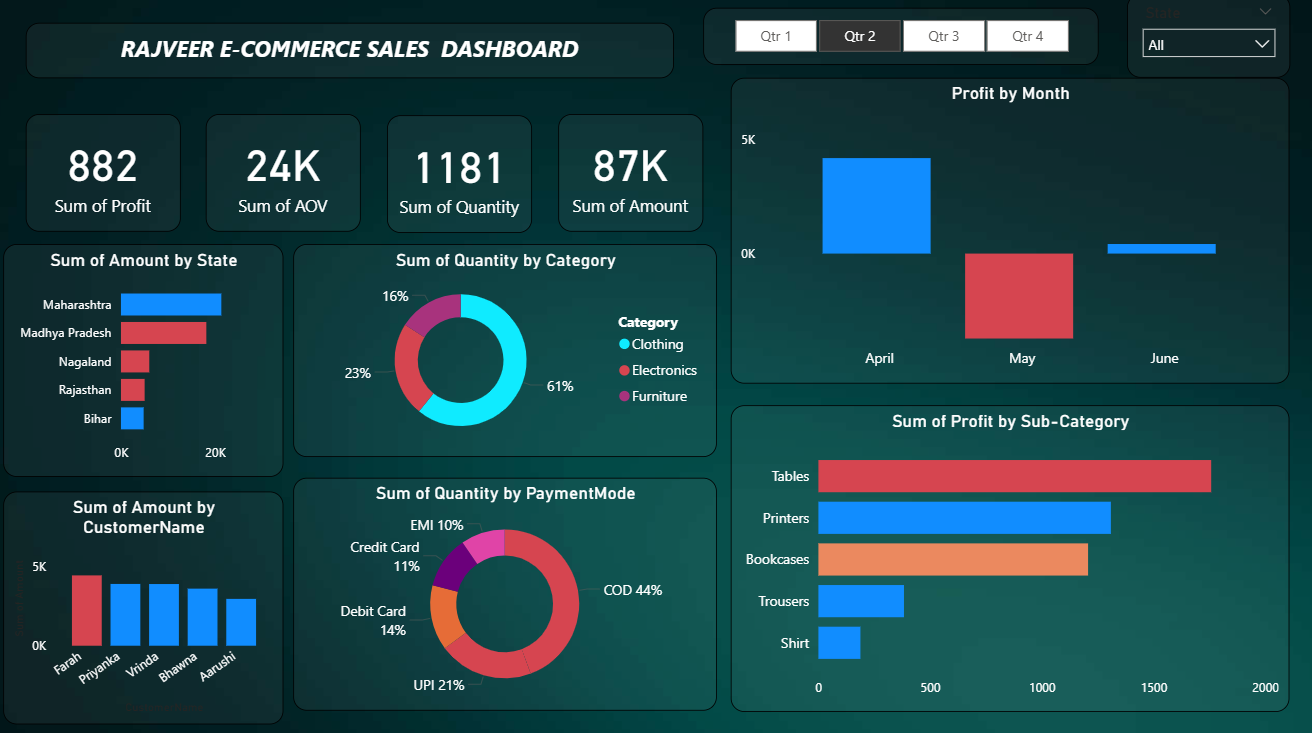

The page's visual inventory and layout, read from the dashboard file:
{"tool":"powerbi","page":{"name":"Page 1","canvas":[1280,720],"ordinal":0},"visuals":[{"type":"columnChart","title":" Profit by Month","fields":{"Y":["Sum(Details.Profit)"],"Category":["Orders.Order Date.Variation.Date Hierarchy.Month"]},"box":[713.6,81,539.3,295],"z":0},{"type":"barChart","fields":{"Category":["Details.Sub-Category"],"Y":["Sum(Details.Profit)"]},"box":[713.6,396.6,539.3,296.4],"z":1000},{"type":"donutChart","fields":{"Category":["Details.Category"],"Y":["Sum(Details.Quantity)"]},"box":[290.9,241.5,408.9,205.8],"z":2000},{"type":"donutChart","fields":{"Category":["Details.PaymentMode"],"Y":["Sum(Details.Quantity)"]},"box":[290.9,466.6,408.9,225],"z":3000},{"type":"card","fields":{"Values":["Sum(Details.Amount)"]},"box":[546.1,115.3,140,113.9],"z":4000},{"type":"card","fields":{"Values":["Sum(Details.Quantity)"]},"box":[381.5,116.6,140,113.9],"z":5000},{"type":"card","fields":{"Values":["Sum(Details.AOV)"]},"box":[205.8,115.3,149.6,113.9],"z":6000},{"type":"card","fields":{"Values":["Sum(Details.Profit)"]},"box":[32.9,115.3,149.6,113.9],"z":7000},{"type":"barChart","fields":{"Category":["Orders.State"],"Y":["Sum(Details.Amount)"]},"box":[11,241.5,270.3,225],"z":8000},{"type":"columnChart","fields":{"Category":["Orders.CustomerName"],"Y":["Sum(Details.Amount)"]},"box":[11,480.3,270.3,225],"z":9000},{"type":"textbox","box":[32.9,27.4,625.7,53.5],"z":10000},{"type":"slicer","fields":{"Values":["Orders.Order Date.Variation.Date Hierarchy.Quarter"]},"box":[686.1,13.7,381.5,54.9],"z":11000},{"type":"slicer","fields":{"Values":["Orders.State"]},"box":[1095,0,157.8,81],"z":12000}]}

Visuals, with their boxes in screenshot pixels (x1, y1, x2, y2), scaled from the page's 1280x720 canvas onto the 1312x733 screenshot:
" Profit by Month" columnChart: (731,82,1284,383)
barChart - Details.Sub-Category x Sum(Details.Profit): (731,404,1284,706)
donutChart - Details.Category x Sum(Details.Quantity): (298,246,717,455)
donutChart - Details.PaymentMode x Sum(Details.Quantity): (298,475,717,704)
card - Sum(Details.Amount): (560,117,703,233)
card - Sum(Details.Quantity): (391,119,535,235)
card - Sum(Details.AOV): (211,117,364,233)
card - Sum(Details.Profit): (34,117,187,233)
barChart - Orders.State x Sum(Details.Amount): (11,246,288,475)
columnChart - Orders.CustomerName x Sum(Details.Amount): (11,489,288,718)
textbox: (34,28,675,82)
slicer - Orders.Order Date.Variation.Date Hierarchy.Quarter: (703,14,1094,70)
slicer - Orders.State: (1122,0,1284,82)
